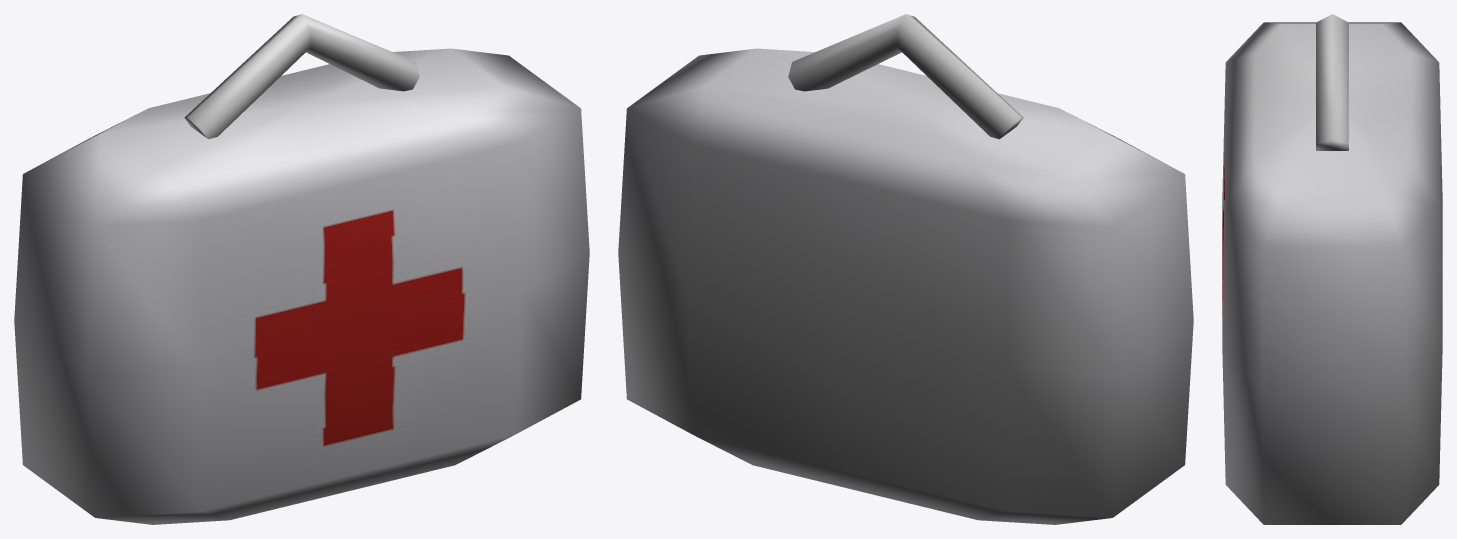
Rendered from trousse-soin.glb.
3 views of the same model, side by side, from view 1: azimuth 30°, elevation 25°; view 2: azimuth 150°, elevation 25°; view 3: azimuth 270°, elevation 25° (orthographic). The views are drawn at different scales.
Visible parts, largest first — view 1: trousse-soin; view 2: trousse-soin; view 3: trousse-soin.
Part boxes in pixels (bbox=[...]): trousse-soin: bbox=[14, 14, 589, 524]; trousse-soin: bbox=[618, 14, 1193, 524]; trousse-soin: bbox=[1222, 14, 1442, 524].
Size of the model in its own units: 0.2884 by 0.25 by 0.1153.
1 material, 1 textured.
